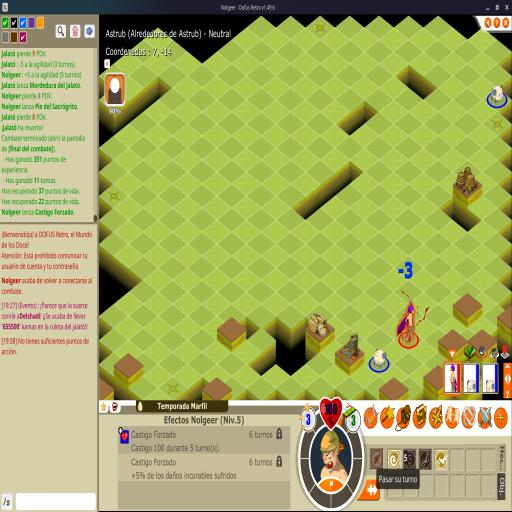Enemigos: (373, 348, 387, 368), (490, 84, 504, 104)
Personaje: (397, 304, 417, 342)
